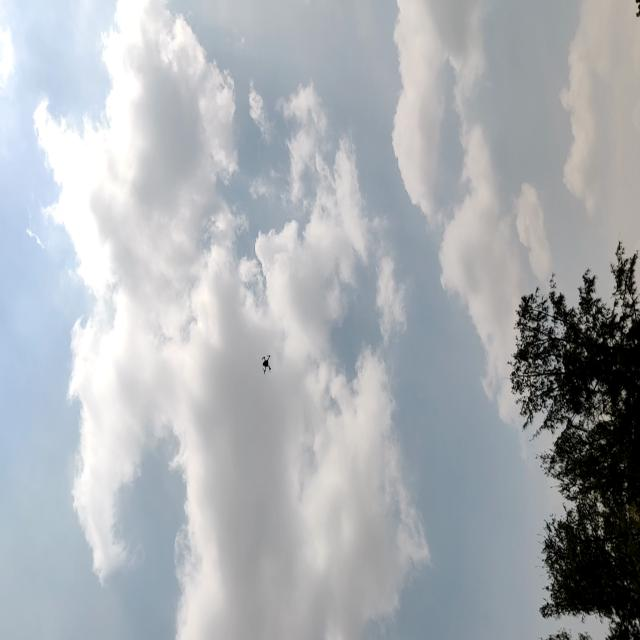drone: (255, 346, 275, 378)
